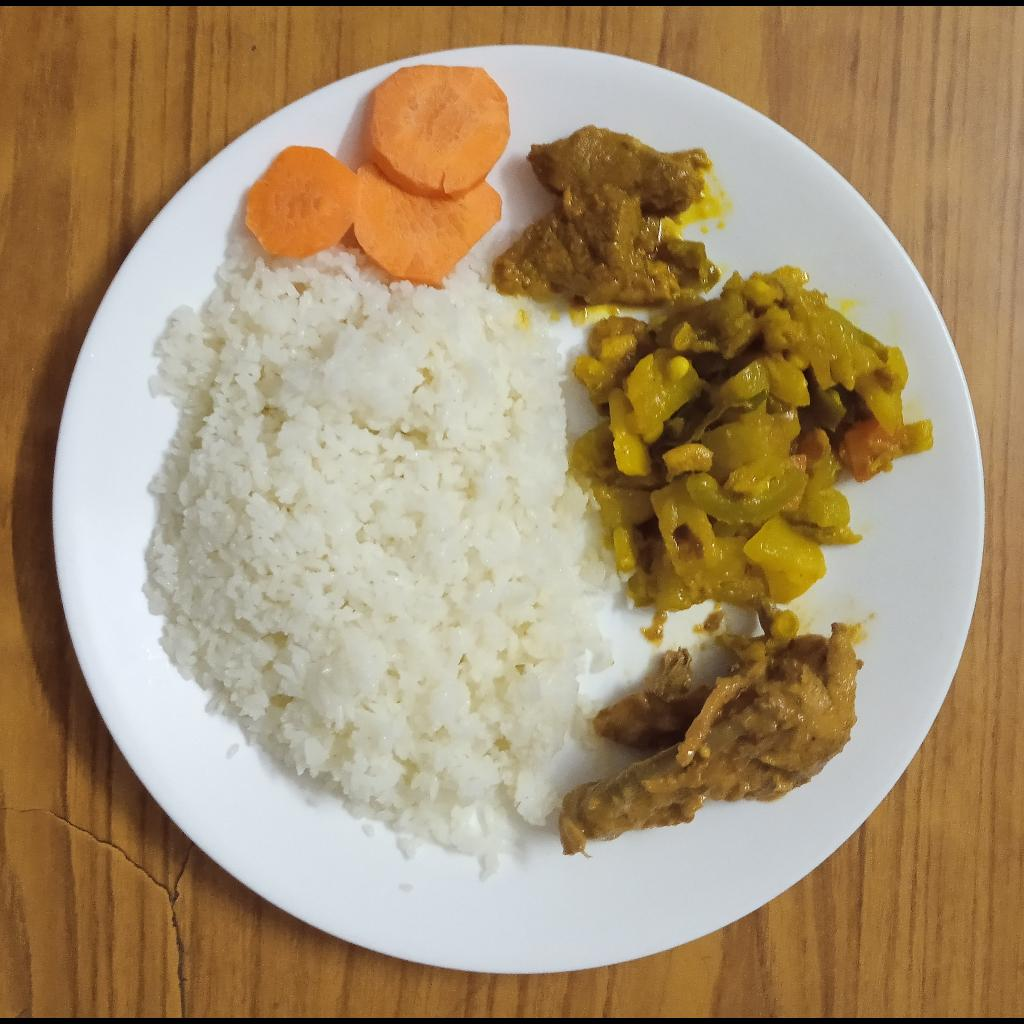beef: (495, 125, 722, 304)
carrot: (245, 66, 512, 284)
chicken: (558, 630, 861, 861)
rice: (141, 231, 618, 867)
vegetable: (579, 266, 939, 625)
